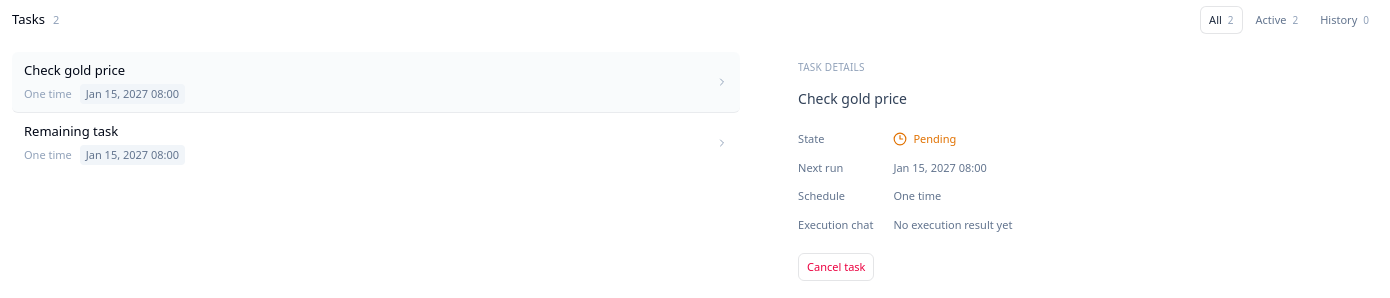
Test: ChatScheduleBoard › cancels only after confirmation and selects the remaining task
The width and height of the screenshot is (1390, 298).
Click the button with aria-label "Cancel task": click(836, 267) [798,253,874,281]
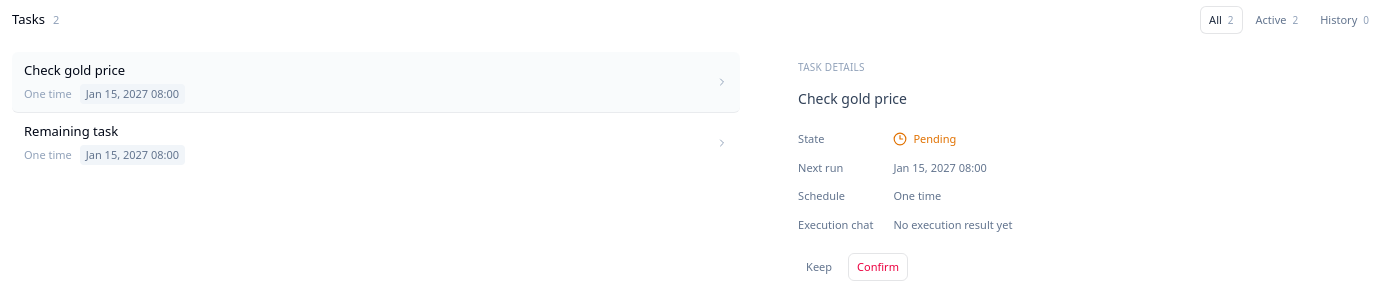
Click the button with aria-label "Cancel task": click(878, 267) [848,253,908,281]
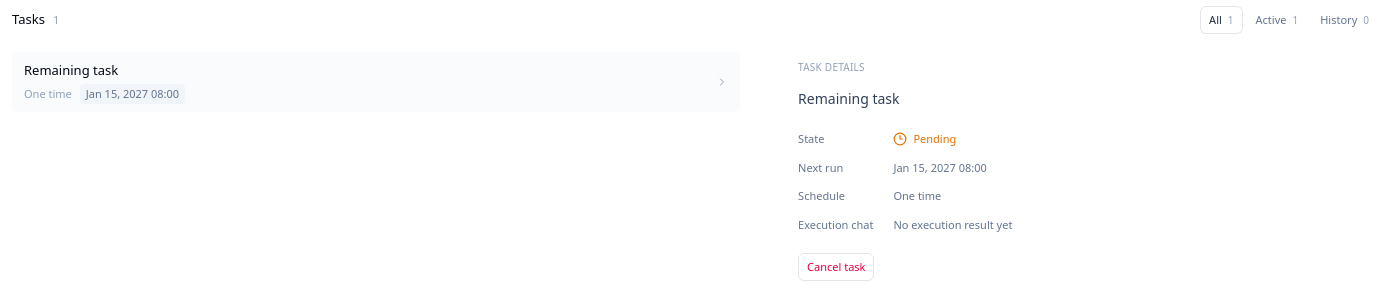
Check: the heading "Remaining task" is shown, box [798,89,900,108]
